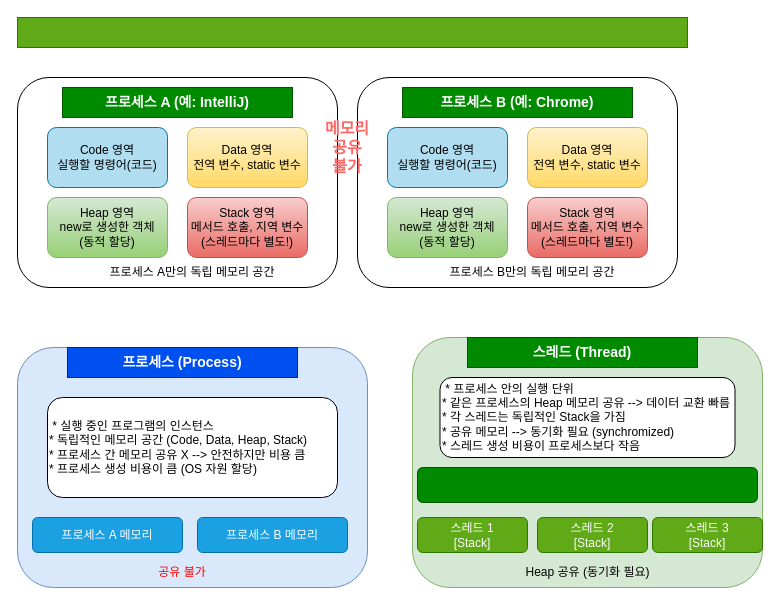
Image size: 780x605. Some labels were removed from this diagram. Here are the shapes that lost their labels. From the top down, the centre of each, then its label:
At [352,32]: "프로세스 메모리 구조 (OS가 할당)".
At [587,484]: "공유 Heap 메모리".
